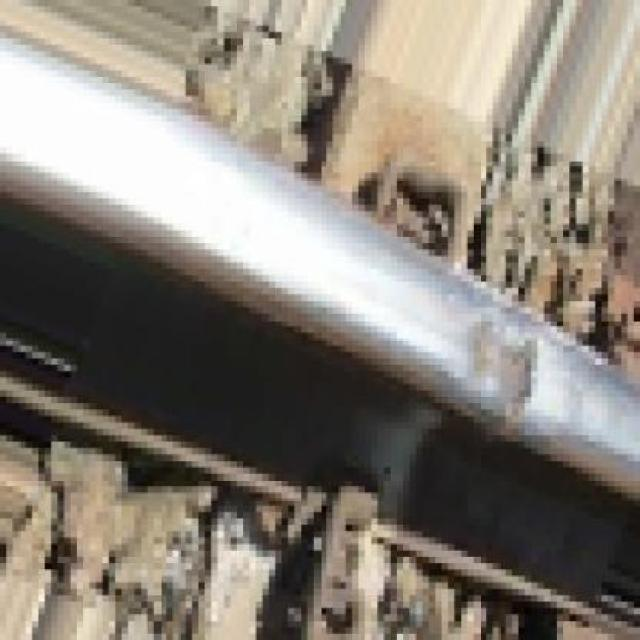defective: (439, 263, 606, 491)
